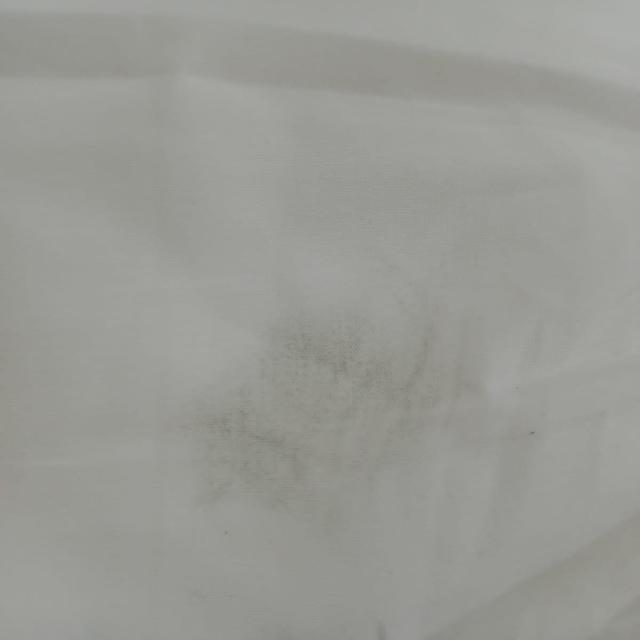stain: (191, 298, 470, 526)
